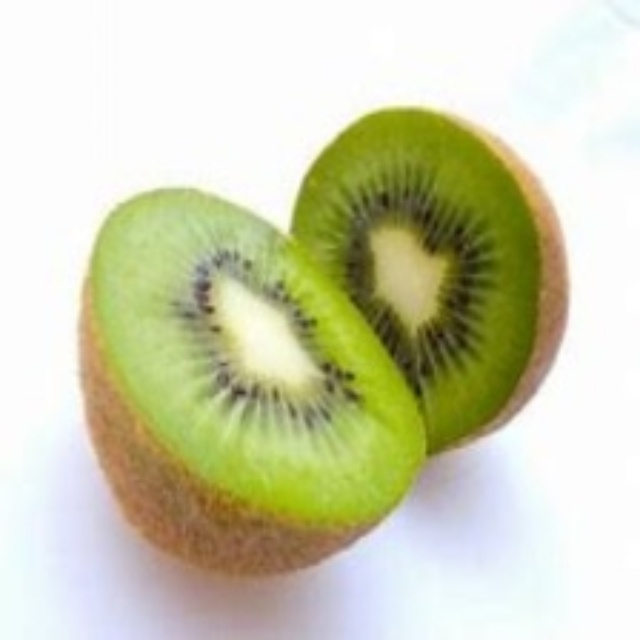kiwi: (73, 193, 418, 581), (295, 102, 570, 451)
